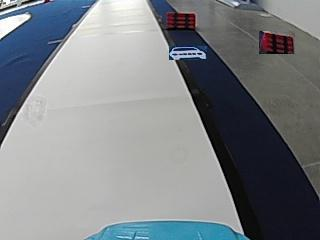bomb: (164, 11, 196, 28)
